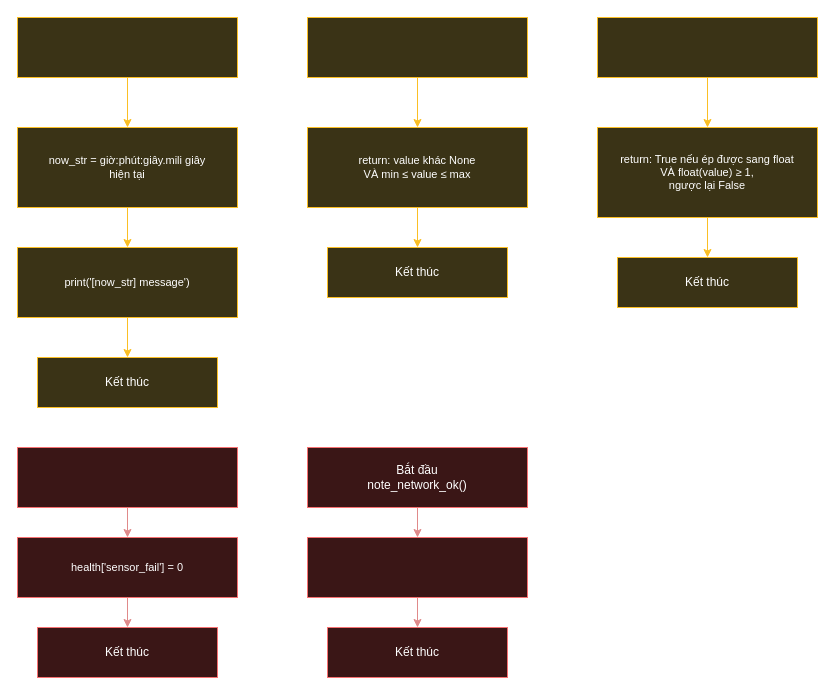
This 835x695 diagram has some shape labels left out. Each missing label, with the box of its shape:
Bắt đầu is_valid(value, min, max): (306, 16, 528, 78)
Bắt đầu log_event(message): (16, 16, 238, 78)
Bắt đầu note_sensor_ok(): (16, 446, 238, 508)
Bắt đầu to_bool(value): (596, 16, 818, 78)
health['network_fail'] = 0: (306, 536, 528, 598)
